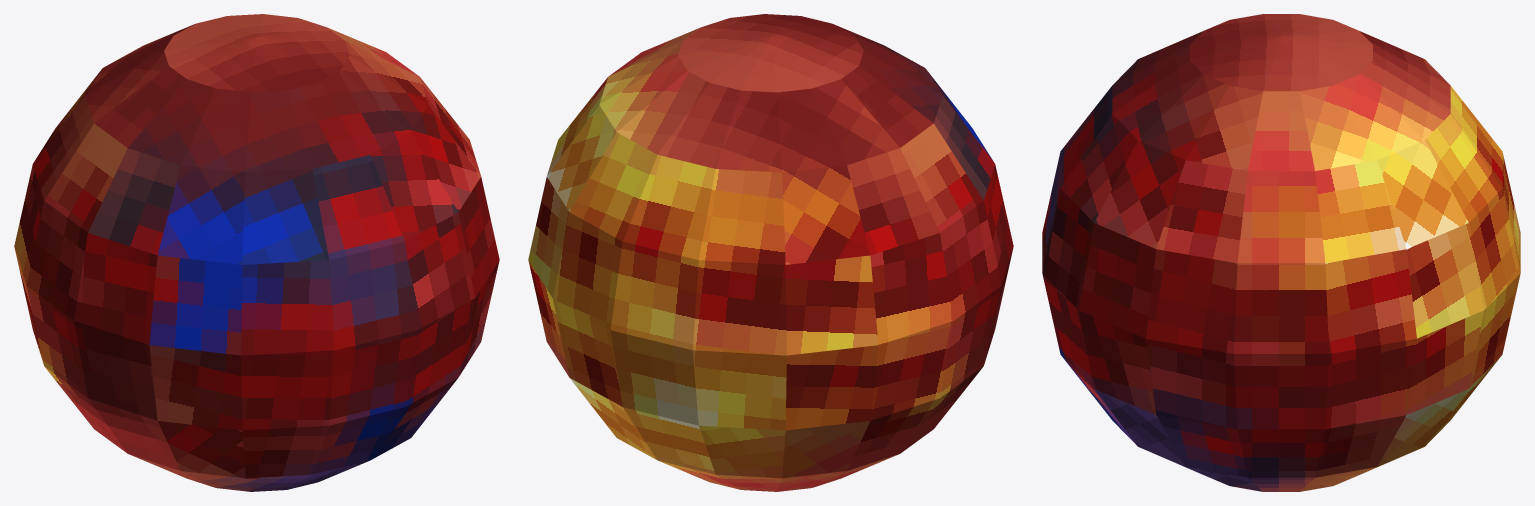
The model's file is mars.fbx.
3 renders of one model, left to right at view 1: azimuth 30°, elevation 25°; view 2: azimuth 150°, elevation 25°; view 3: azimuth 270°, elevation 25°, orthographic.
Visible parts, largest first — view 1: sphere; view 2: sphere; view 3: sphere.
Part boxes in pixels (x1,y1,x2,y2): sphere: [14, 14, 499, 491]; sphere: [528, 14, 1013, 491]; sphere: [1042, 14, 1520, 491].
Size of the model in its own units: 112 by 112 by 112.
Materials: 1 (1 with a texture image).
